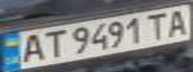1: (121, 15, 148, 44)
4: (87, 20, 112, 52)
9: (66, 24, 93, 55), (106, 19, 130, 49)
A: (15, 31, 48, 64), (160, 7, 193, 37)
T: (36, 28, 69, 60), (139, 10, 172, 40)
